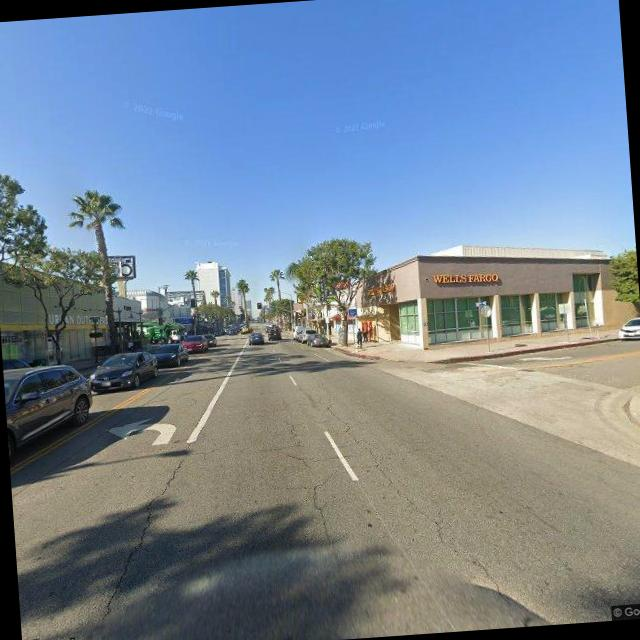pothole: (317, 390, 534, 632), (84, 450, 199, 618)
